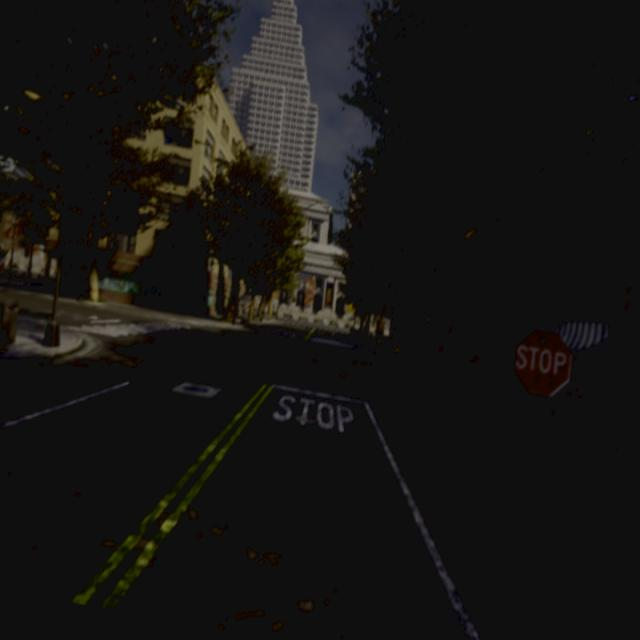stop sign: (511, 325, 574, 399), (514, 342, 568, 376)
